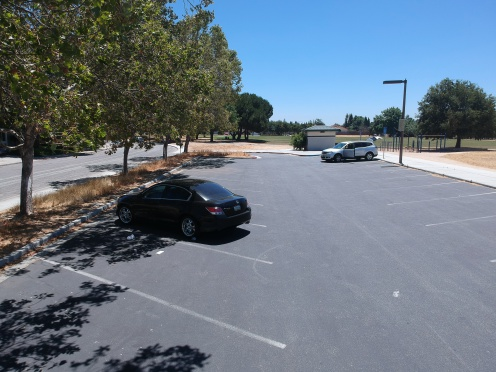plastic bag: (123, 231, 139, 243)
